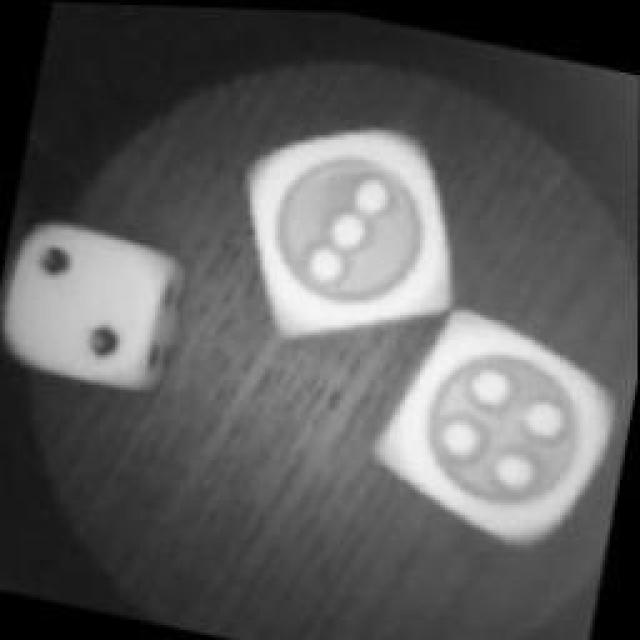dice_2: (0, 205, 185, 400)
dice_3: (228, 102, 470, 368)
dice_4: (378, 294, 628, 556)
